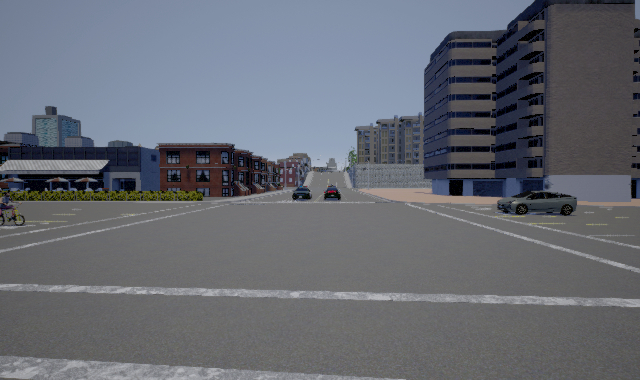bike: (1, 192, 32, 228)
vehicle: (497, 191, 577, 216), (290, 185, 313, 201), (321, 184, 342, 201)
